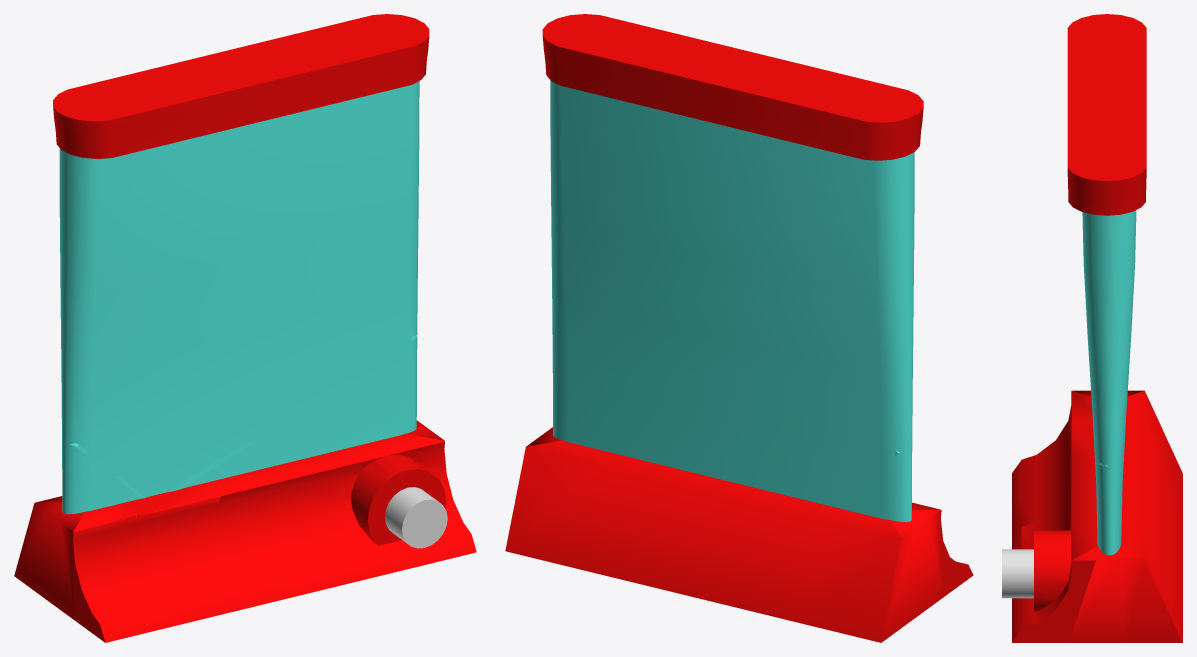
File: Body.FBX
3 views of the same model, side by side, from view 1: azimuth 30°, elevation 25°; view 2: azimuth 150°, elevation 25°; view 3: azimuth 270°, elevation 25° (orthographic). The views are drawn at different scales.
Parts seen in each view (by area): view 1: Cylinder002, Box001, Cylinder003, Cylinder001; view 2: Cylinder002, Box001, Cylinder003; view 3: Box001, Cylinder003, Cylinder002, Cylinder001.
Part boxes in pixels (x1,y1,x2,y2): Cylinder002: (59, 81, 419, 514); Box001: (14, 420, 476, 642); Cylinder003: (53, 14, 429, 158); Cylinder001: (385, 487, 447, 548); Cylinder002: (550, 80, 914, 522); Box001: (505, 427, 973, 642); Cylinder003: (542, 14, 923, 160); Box001: (1012, 390, 1182, 642); Cylinder003: (1067, 14, 1146, 215); Cylinder002: (1082, 210, 1136, 555); Cylinder001: (1002, 549, 1033, 598).
Size of the model in its own units: 3.94 by 4.99 by 1.77.
